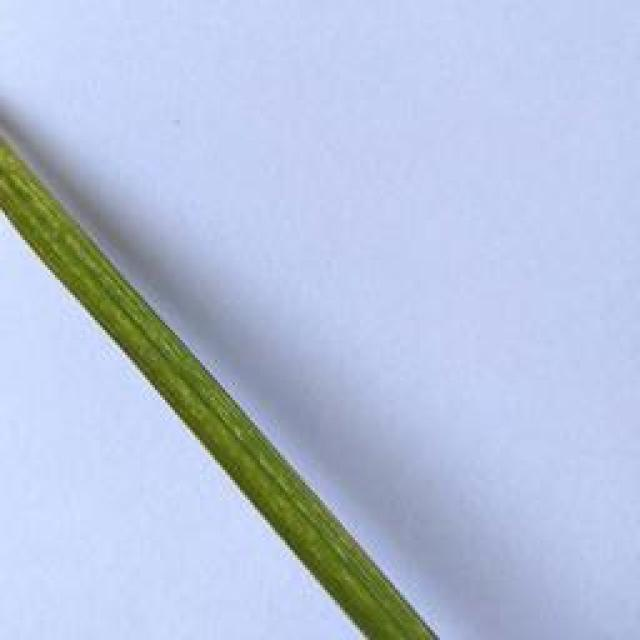Healthy-Plant: (0, 135, 434, 640)
